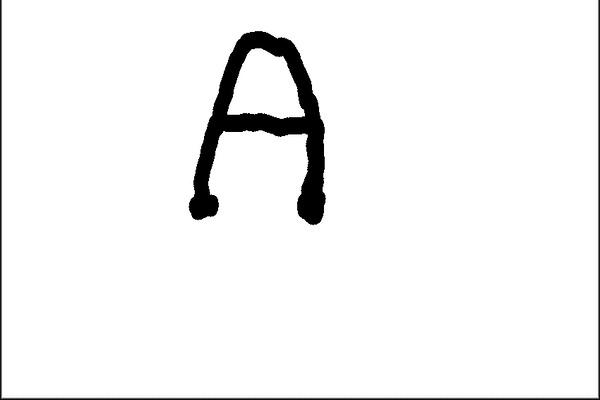A: (180, 25, 338, 235)
